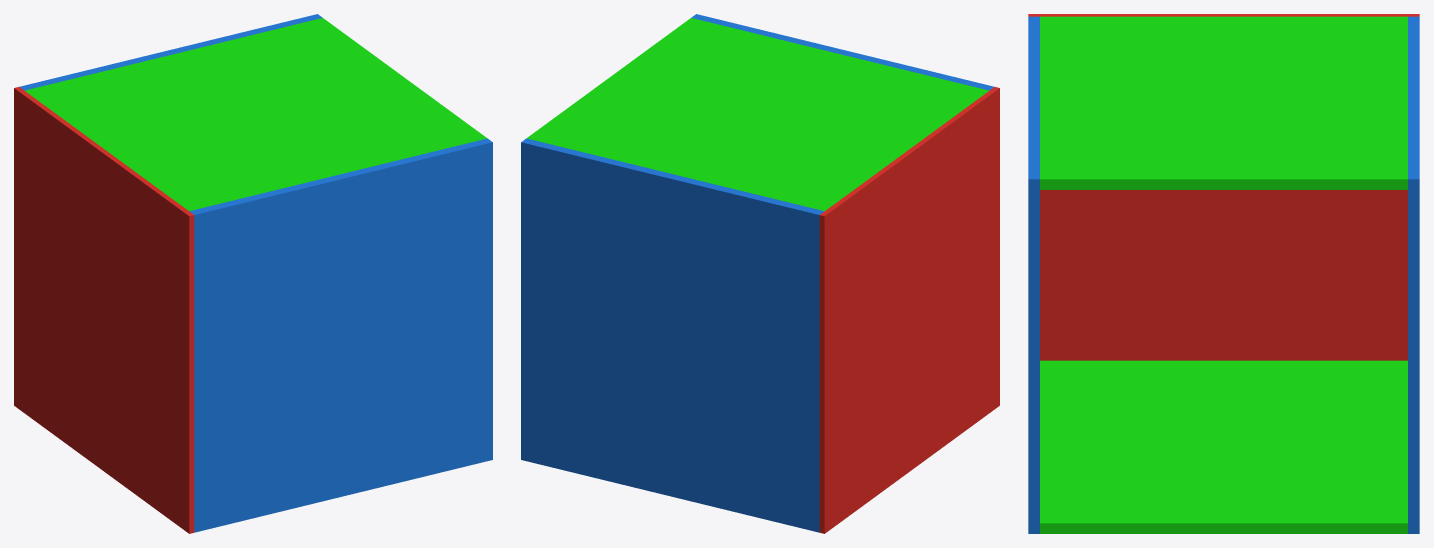
The model's file is kast6.gltf.
3 renders of one model, left to right at view 1: azimuth 30°, elevation 25°; view 2: azimuth 150°, elevation 25°; view 3: azimuth 270°, elevation 25°, orthographic. The views are drawn at different scales.
Visible parts, largest first — view 1: links, achter, boven, rechts; view 2: rechts, achter, boven, links; view 3: achter, onder, boven, links, rechts.
Boxes of the visible parts, x1,y1,x2,y2 form: links: (189,138,492,532); achter: (14,87,194,533); boven: (25,18,487,211); rechts: (19,14,322,90); rechts: (521,138,824,532); achter: (819,87,999,533); boven: (526,18,988,211); links: (691,14,994,90); achter: (1028,14,1419,360); onder: (1040,360,1407,533); boven: (1040,16,1407,189); links: (1028,16,1039,533); rechts: (1408,16,1419,533).
Size of the model in its own units: 0.6 by 0.6 by 0.6.
